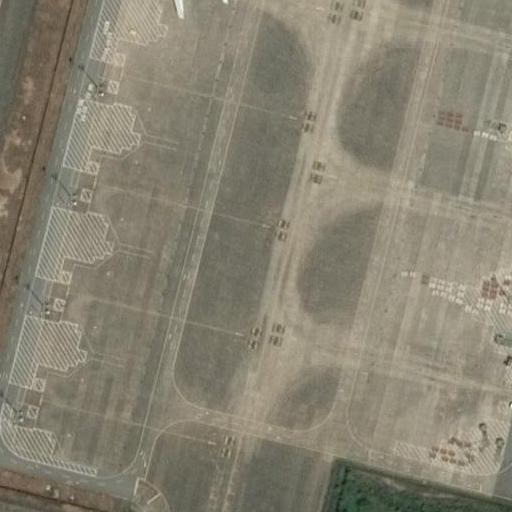Aircraft: (133, 0, 233, 19)
